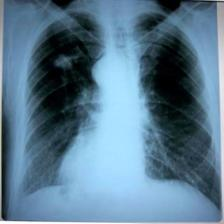tuberculosis: (13, 7, 220, 212)
